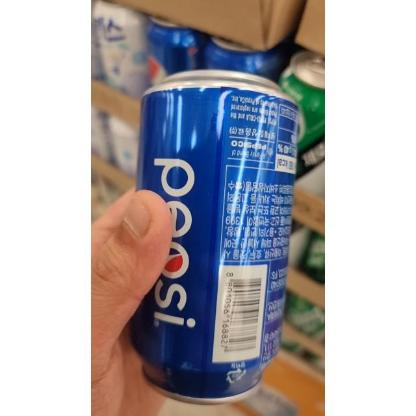Can: (128, 69, 300, 404)
